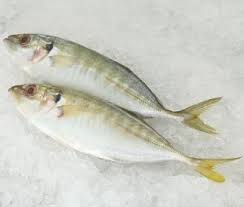Ikan Selar: (6, 80, 236, 190), (1, 26, 213, 81)
